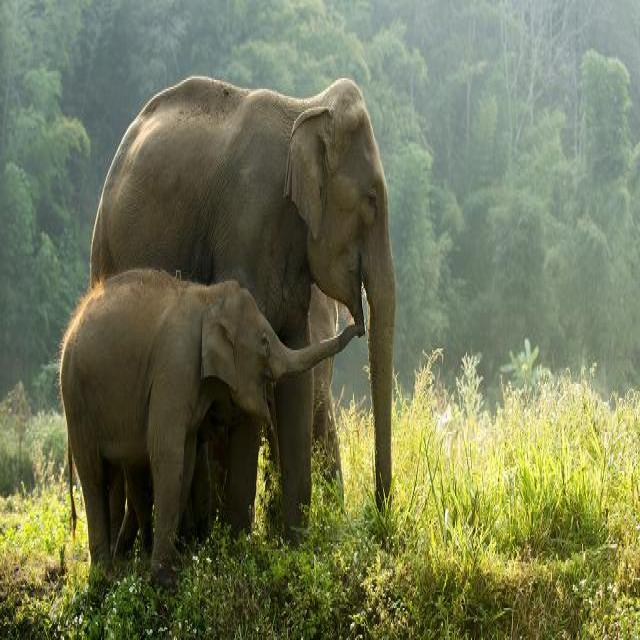Elephant: (61, 27, 412, 539), (26, 256, 362, 618)
